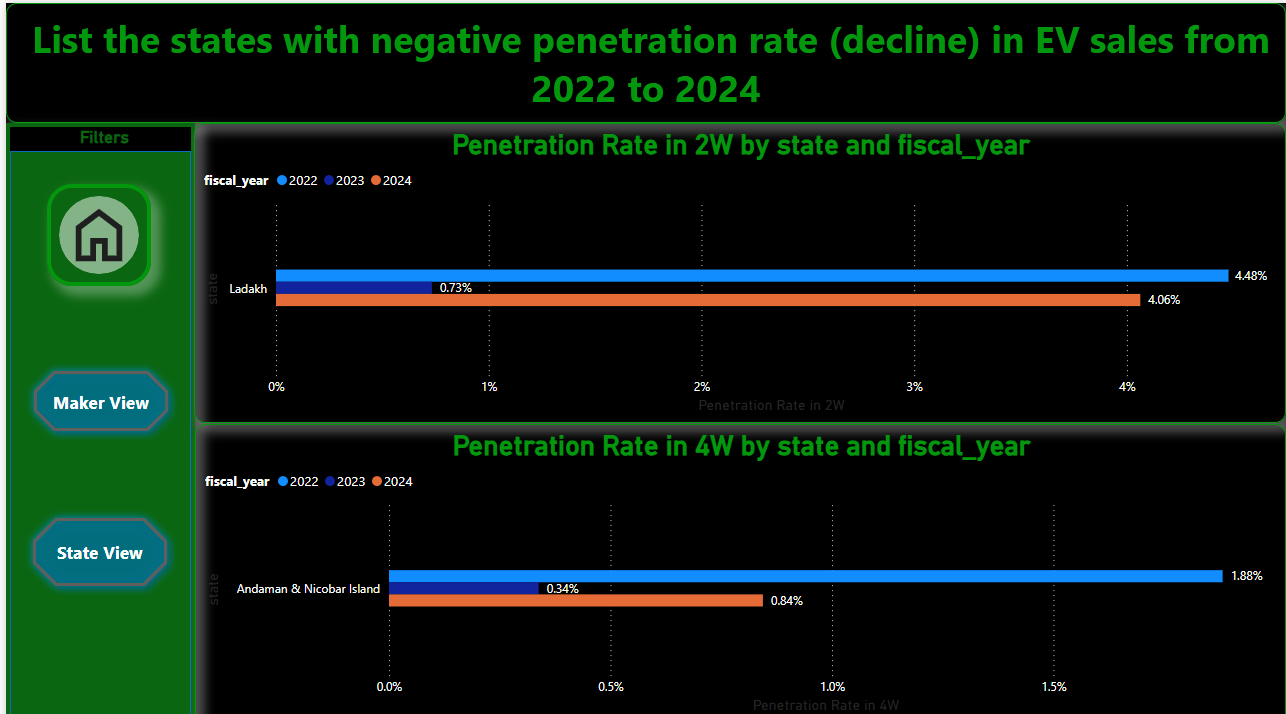

Layout of this report page (visuals, bound fields, positions):
{"tool":"powerbi","page":{"name":"q-6","canvas":[1280,720],"ordinal":8},"visuals":[{"type":"textbox","box":[0,0,1280,120],"z":0},{"type":"shape","title":"Filters","box":[0,120,188.9,600],"z":1000},{"type":"actionButton","box":[18.5,359.5,152.5,77.3],"z":2000},{"type":"actionButton","box":[41.4,180.8,103.5,102.4],"z":3000},{"type":"actionButton","box":[17.8,505.6,152.2,86.7],"z":4000},{"type":"clusteredBarChart","fields":{"Category":["states_2W.state"],"Y":["states_2W.Penetration Rate in 2W"],"Series":["dim_date.fiscal_year"]},"box":[188.4,119.8,1091.6,300.7],"z":5000},{"type":"clusteredBarChart","fields":{"Category":["states_4W.state"],"Y":["states_4W.Penetration Rate in 4W"],"Series":["dim_date.fiscal_year"]},"box":[189,421,1091,299],"z":6000}]}

Visuals, with their boxes in screenshot pixels (x1, y1, x2, y2), scaled from the page's 1280x720 canvas onto the 1286x714 screenshot:
textbox: left=0, top=0, right=1285, bottom=119
"Filters" shape: left=0, top=119, right=190, bottom=713
actionButton: left=19, top=357, right=172, bottom=433
actionButton: left=42, top=179, right=146, bottom=281
actionButton: left=18, top=501, right=171, bottom=587
clusteredBarChart - states_2W.state x states_2W.Penetration Rate in 2W: left=189, top=119, right=1285, bottom=417
clusteredBarChart - states_4W.state x states_4W.Penetration Rate in 4W: left=190, top=417, right=1285, bottom=713
